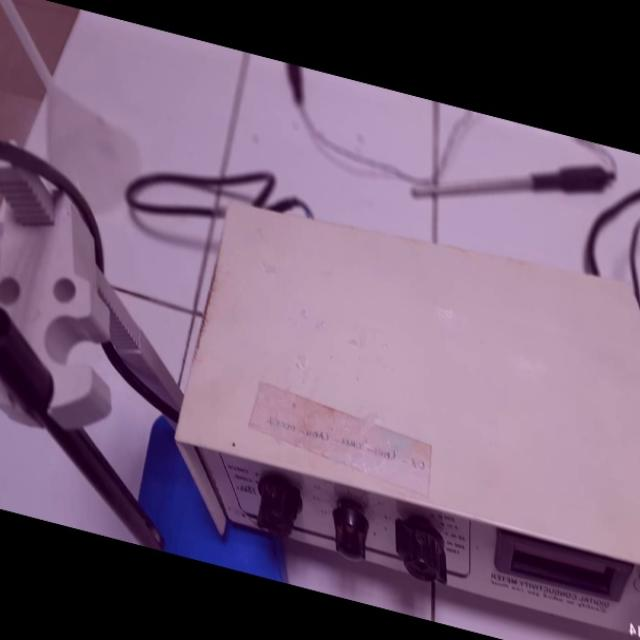Conductivity Meter: (0, 99, 640, 640)
